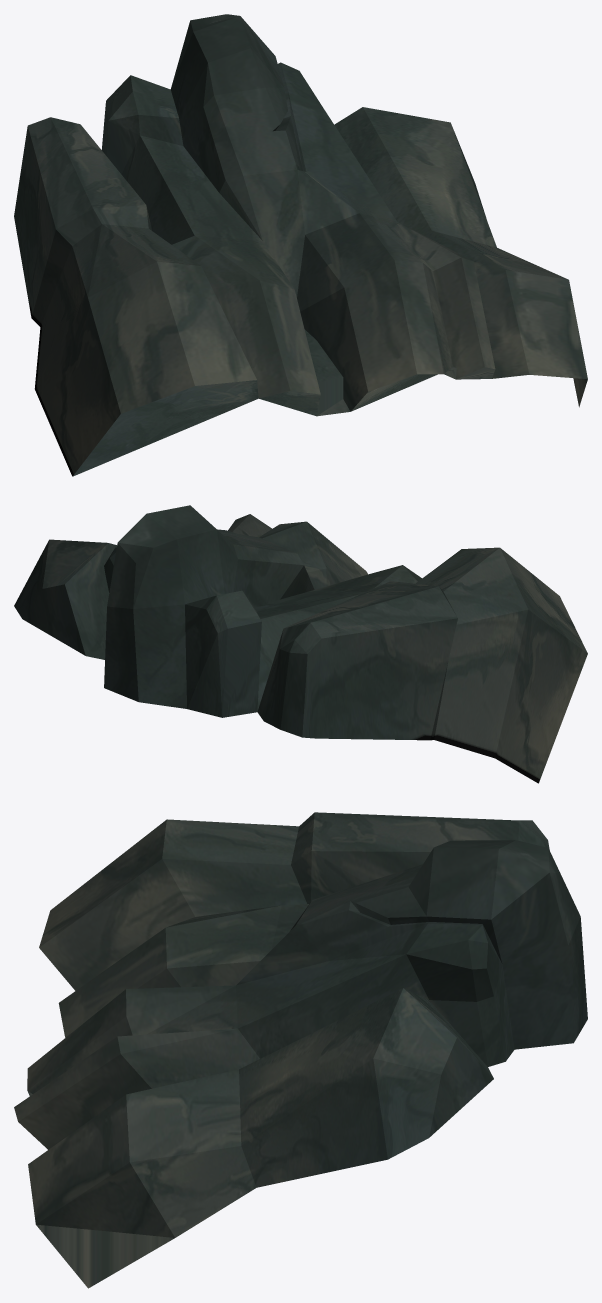
Rendered from ETC0610073.fbx.
3 renders of one model, top to bottom at view 1: azimuth 30°, elevation 25°; view 2: azimuth 150°, elevation 25°; view 3: azimuth 270°, elevation 25°, orthographic. The views are drawn at different scales.
Parts seen in each view (by area): view 1: smETC0610073; view 2: smETC0610073; view 3: smETC0610073.
Boxes of the visible parts, x1,y1,x2,y2 form: smETC0610073: (14,14,587,476); smETC0610073: (14,505,587,783); smETC0610073: (14,812,587,1288).
Bounding box in the file's own units: 234 × 141 × 210.
1 material, 1 textured.
